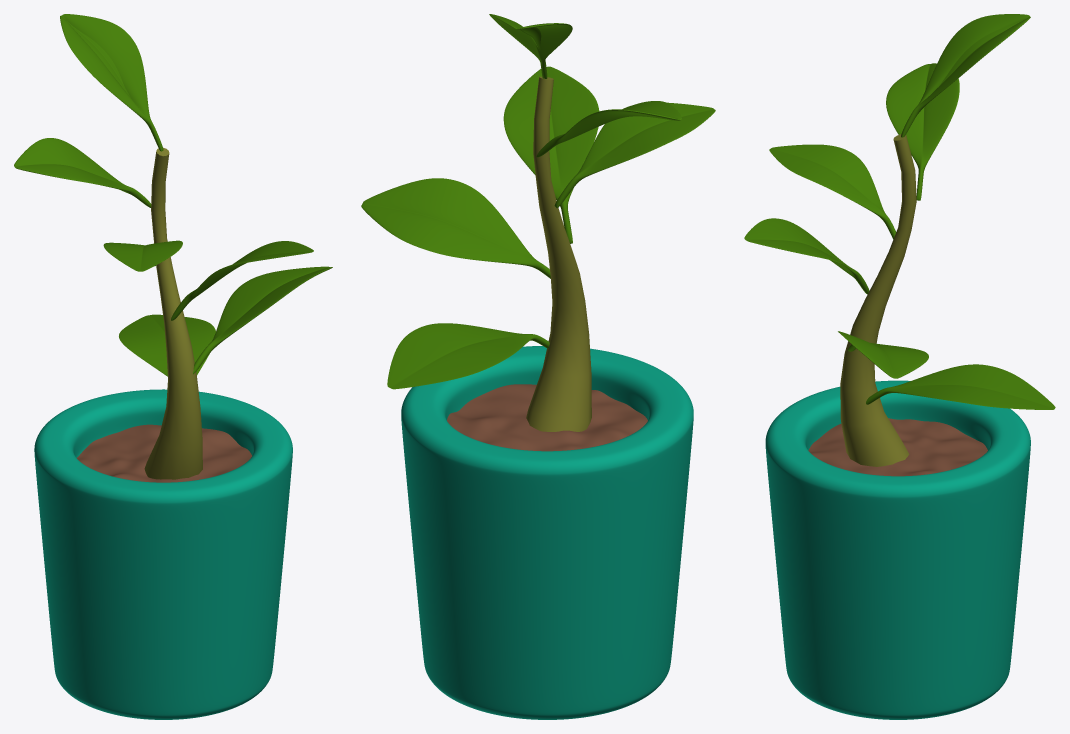
The model's file is Growth_step2.fbx.
3 renders of one model, left to right at view 1: azimuth 30°, elevation 25°; view 2: azimuth 150°, elevation 25°; view 3: azimuth 270°, elevation 25°, orthographic. The views are drawn at different scales.
Parts seen in each view (by area): view 1: 円柱, 平面, ベジエカーブ, 平面.001; view 2: 円柱, 平面, ベジエカーブ, 平面.001; view 3: 円柱, 平面, ベジエカーブ, 平面.001.
Part boxes in pixels (box(x1,y1,x2,y2)): 円柱: box(34, 389, 292, 719); 平面: box(14, 14, 332, 376); ベジエカーブ: box(144, 147, 202, 479); 平面.001: box(76, 424, 251, 482); 円柱: box(401, 346, 693, 719); 平面: box(361, 14, 715, 389); ベジエカーブ: box(526, 76, 591, 431); 平面.001: box(447, 384, 647, 451); 円柱: box(765, 380, 1030, 719); 平面: box(744, 14, 1055, 409); ベジエカーブ: box(840, 134, 916, 466); 平面.001: box(808, 418, 987, 476).
Size of the model in its own units: 2.63 by 5.25 by 2.3.
